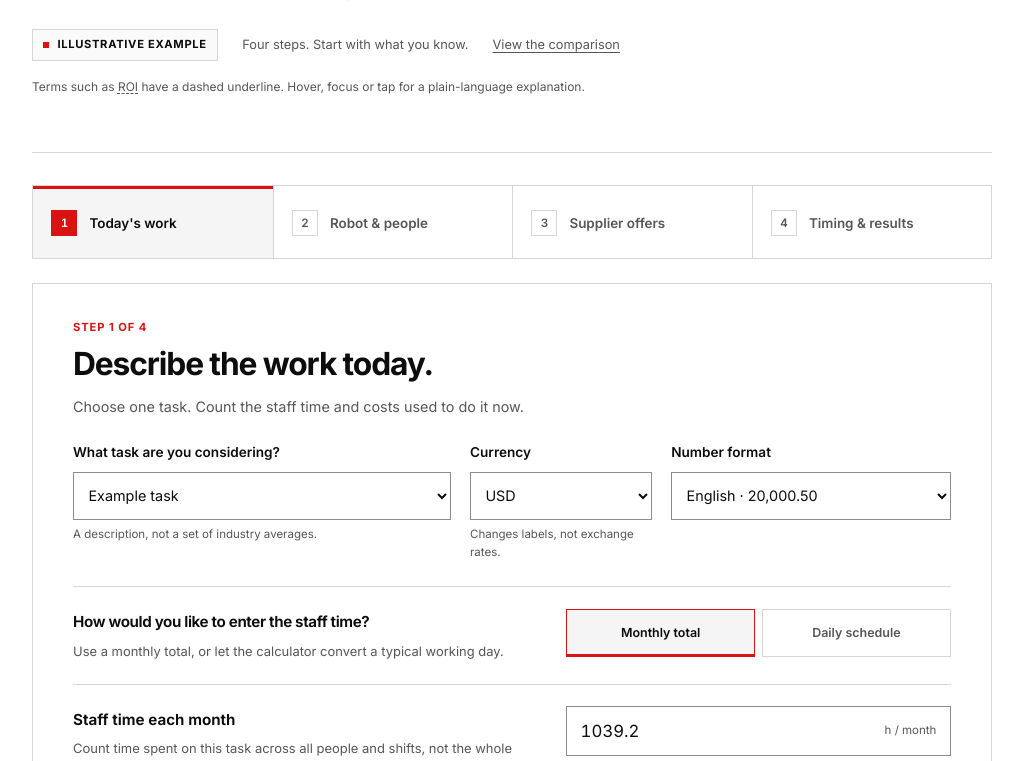
Test: Guided robotics cost and ROI calculator › reformats numbers when decimal convention changes without converting currencies
Later steps or results of the test are not shown.
(page scrolled)
Step 1. Select "CHF" in the dropdown labelled "Currency" → (561, 496), box top-left (470, 472), bottom-right (652, 520)
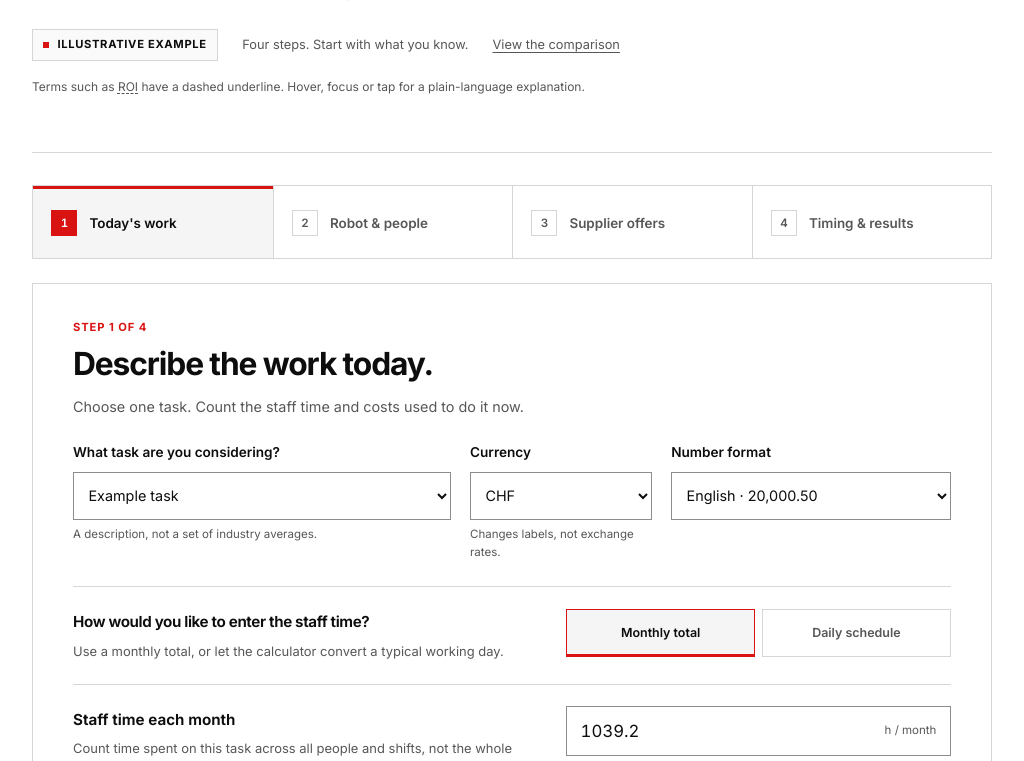
Step 2. Click the button "3 Supplier offers" → click(632, 222), box top-left (513, 186), bottom-right (752, 258)
(page scrolled)
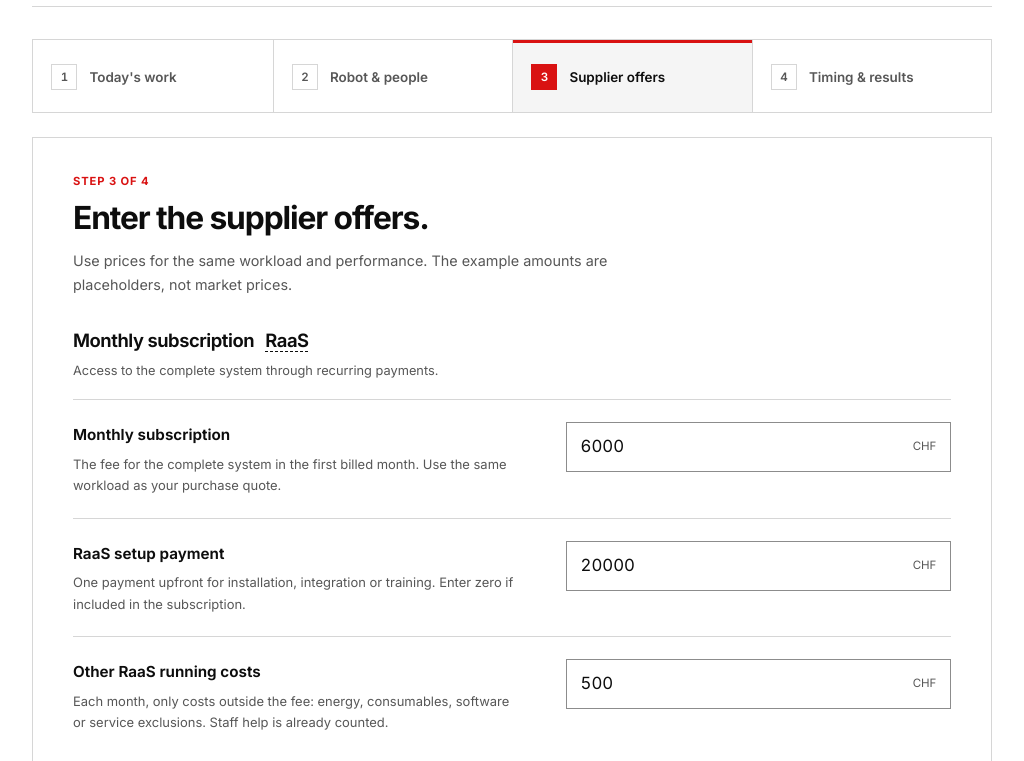
Now the field labelled "RaaS setup payment" holds "20000", box top-left (567, 542), bottom-right (913, 589)
